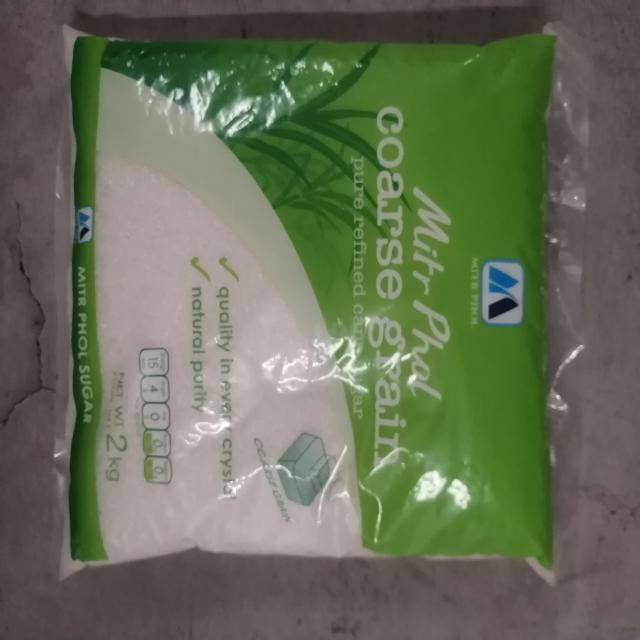object_name: (65, 29, 553, 569)
